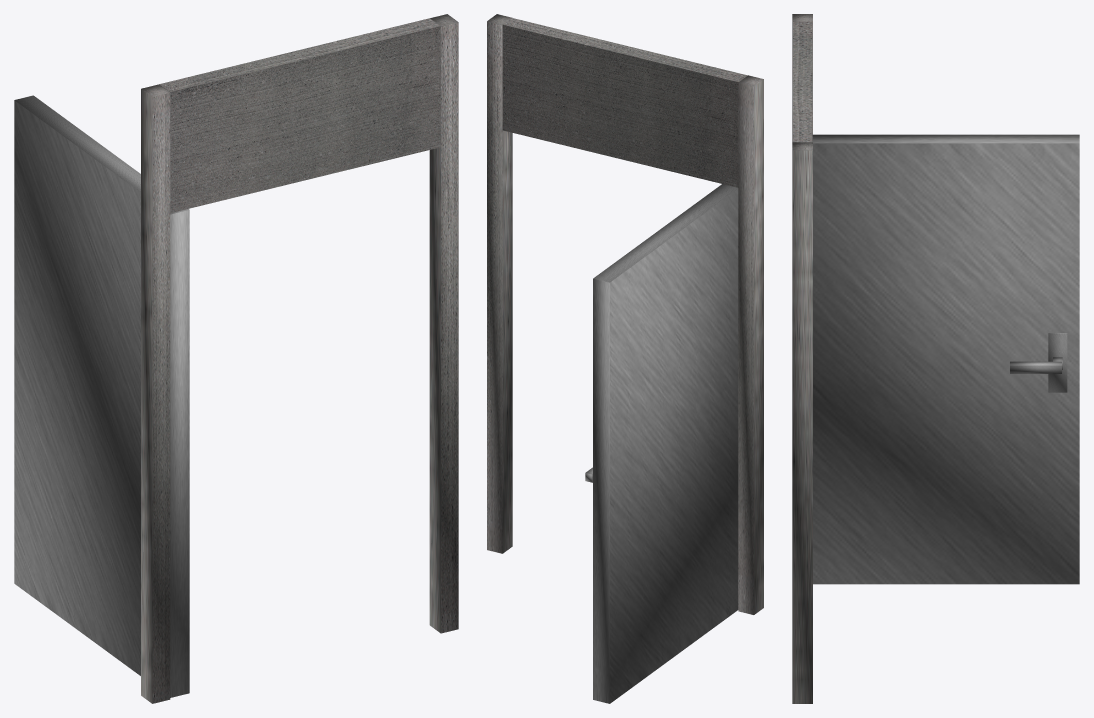
File: metaldoor_000005.obj
3 views of the same model, side by side, from view 1: azimuth 30°, elevation 25°; view 2: azimuth 150°, elevation 25°; view 3: azimuth 270°, elevation 25° (orthographic). The views are drawn at different scales.
Visible parts, largest first — view 1: Cube.004_Cube.005, Cube.006_Cube.007; view 2: Cube.004_Cube.005, Cube.006_Cube.007; view 3: Cube.004_Cube.005, Cube.006_Cube.007.
Boxes of the visible parts, <box> form: Cube.004_Cube.005: <box>14,95,189,697</box>; Cube.006_Cube.007: <box>141,14,458,703</box>; Cube.004_Cube.005: <box>585,184,738,703</box>; Cube.006_Cube.007: <box>487,14,763,614</box>; Cube.004_Cube.005: <box>812,134,1079,584</box>; Cube.006_Cube.007: <box>792,14,812,703</box>.
Size of the model in its own units: 1.58 by 3 by 1.41.
